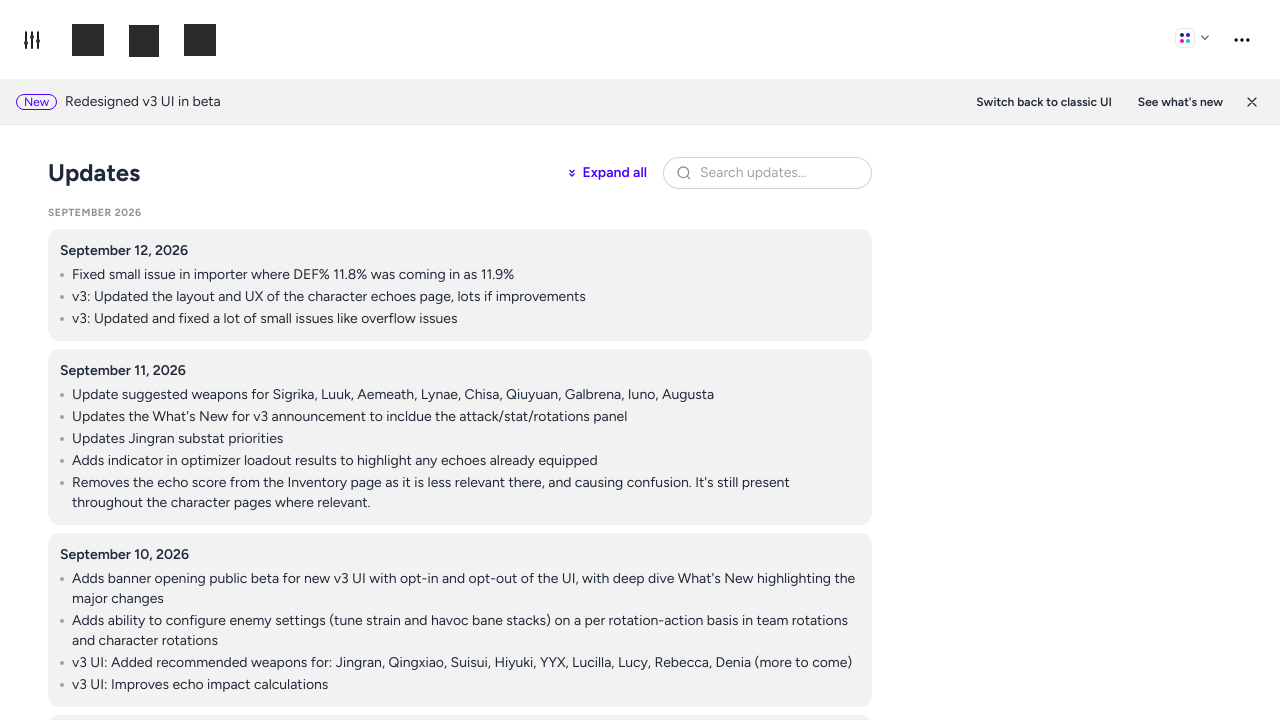
Test case: Updates Workspace (liveResultBar flag) › shows an empty state for a query that matches nothing
The image size is (1280, 720).
Type "zzz-no-such-update-exists-zzz" into the field with placeholder "Search updates…" at (780, 173), box [700,157,859,189]
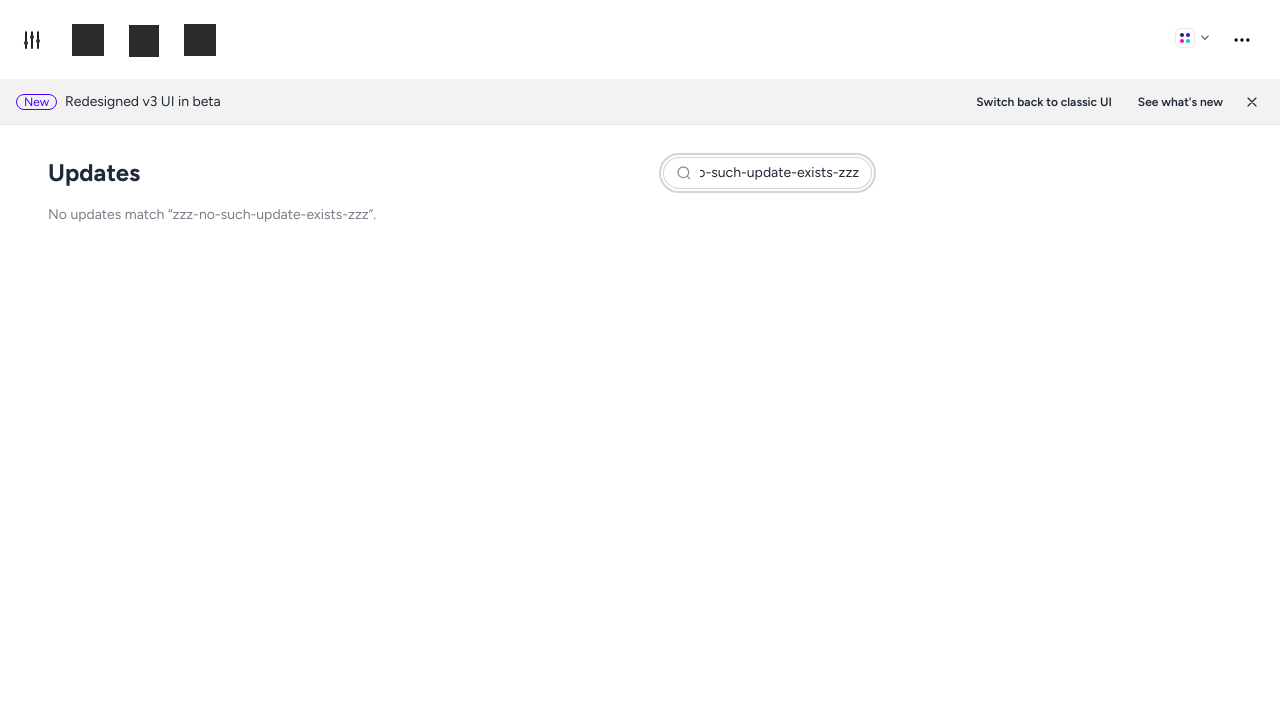
Expected: the text "No updates match “zzz-no-such-update-exists-zzz”." is shown, [48,206,376,223]
